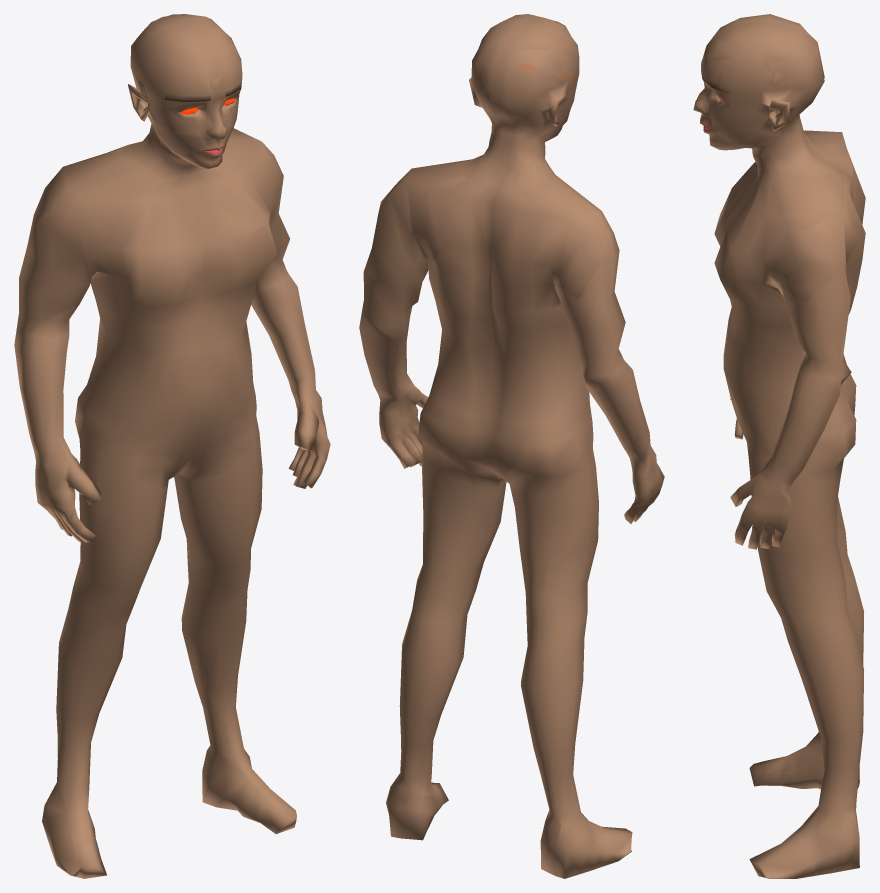
Rendered from shadow_updated.fbx.
3 renders of one model, left to right at view 1: azimuth 30°, elevation 25°; view 2: azimuth 150°, elevation 25°; view 3: azimuth 270°, elevation 25°, orthographic. The views are drawn at different scales.
Parts seen in each view (by area): view 1: body; view 2: body; view 3: body.
Part boxes in pixels (x1=…): body: x1=14, y1=14, x2=330, y2=878; body: x1=359, y1=14, x2=664, y2=878; body: x1=693, y1=14, x2=865, y2=878.
Size of the model in its own units: 218 by 618 by 120.
